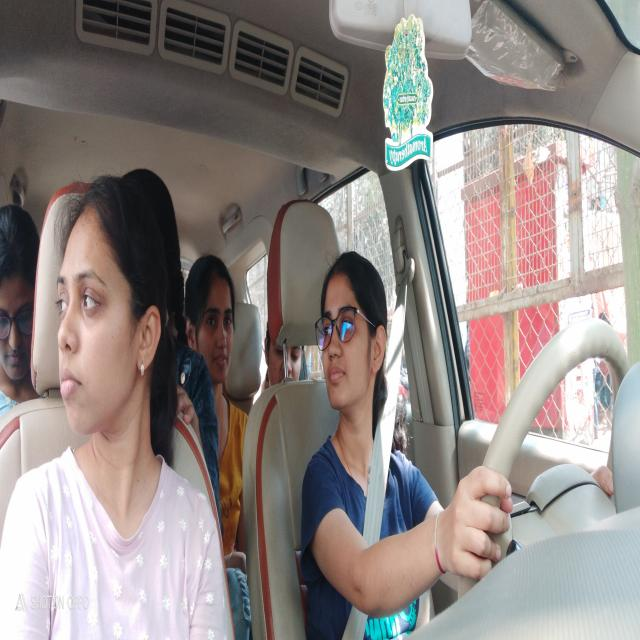LeftRight: (316, 238, 391, 444)
person: (48, 164, 168, 436), (185, 253, 238, 403), (0, 202, 40, 392), (266, 314, 306, 394)
